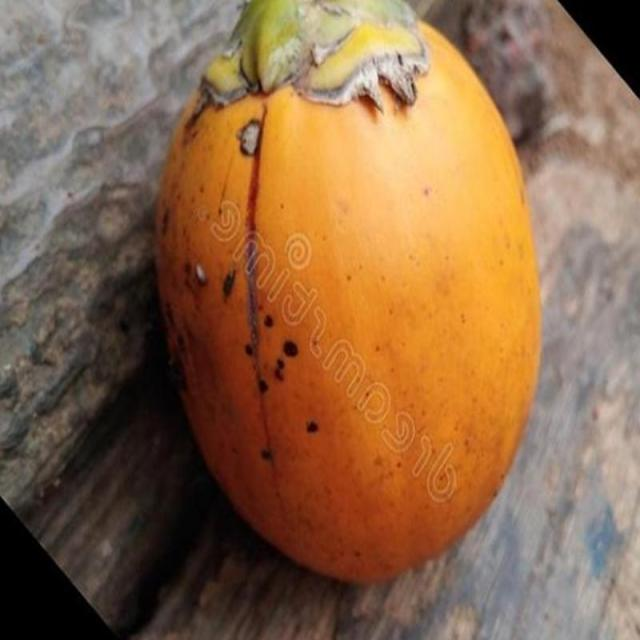good: (152, 0, 544, 589)
